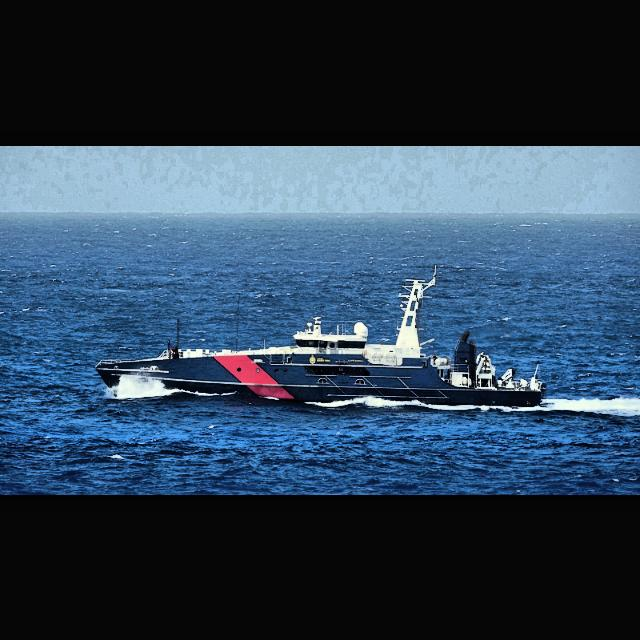patrol_vessel: (95, 262, 549, 408)
